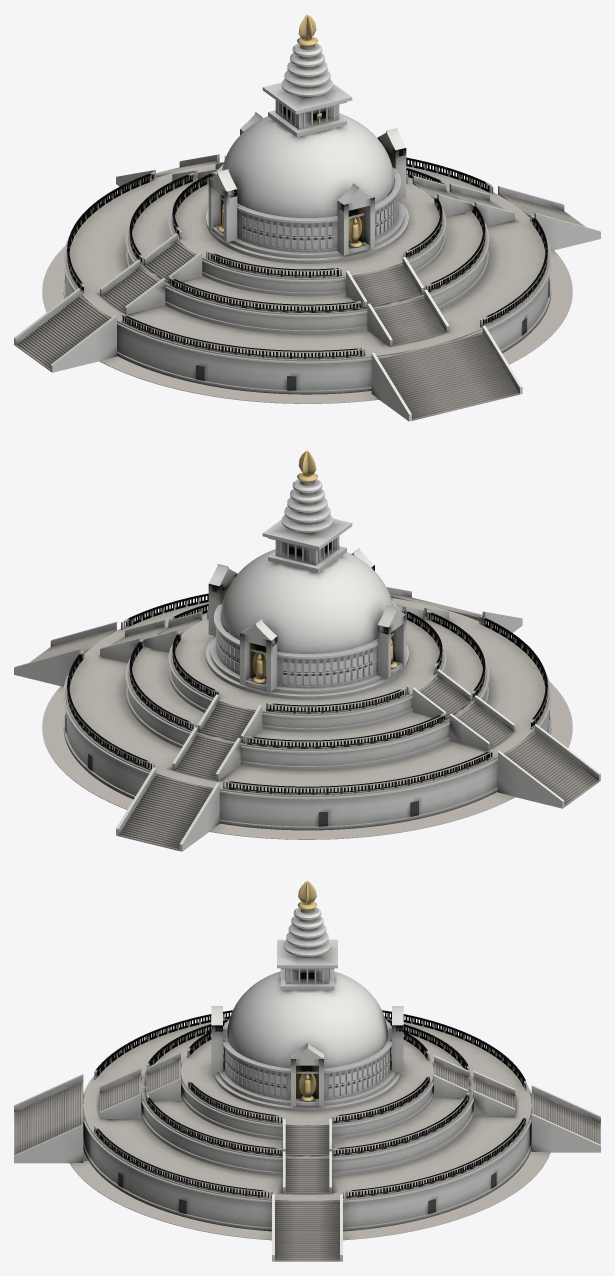
The model's file is world-peace-pagoda.glb.
The picture shows the model from 3 angles, top to bottom: view 1: azimuth 30°, elevation 25°; view 2: azimuth 150°, elevation 25°; view 3: azimuth 270°, elevation 25°; orthographic projection. The views are drawn at different scales.
Visible parts, largest first — view 1: pagoda-plaster, pagoda-stone, pagoda-gold; view 2: pagoda-plaster, pagoda-stone, pagoda-gold; view 3: pagoda-plaster, pagoda-stone, pagoda-gold.
Boxes of the visible parts, <box> form: pagoda-plaster: <box>14,43,600,421</box>; pagoda-stone: <box>15,161,585,420</box>; pagoda-gold: <box>217,14,362,247</box>; pagoda-plaster: <box>14,479,600,851</box>; pagoda-stone: <box>29,593,599,850</box>; pagoda-gold: <box>252,450,397,683</box>; pagoda-plaster: <box>14,907,600,1261</box>; pagoda-stone: <box>14,1018,600,1261</box>; pagoda-gold: <box>223,880,391,1101</box>.
Size of the model in its own units: 81.2 by 39.25 by 81.2.
4 materials, 4 textured.
